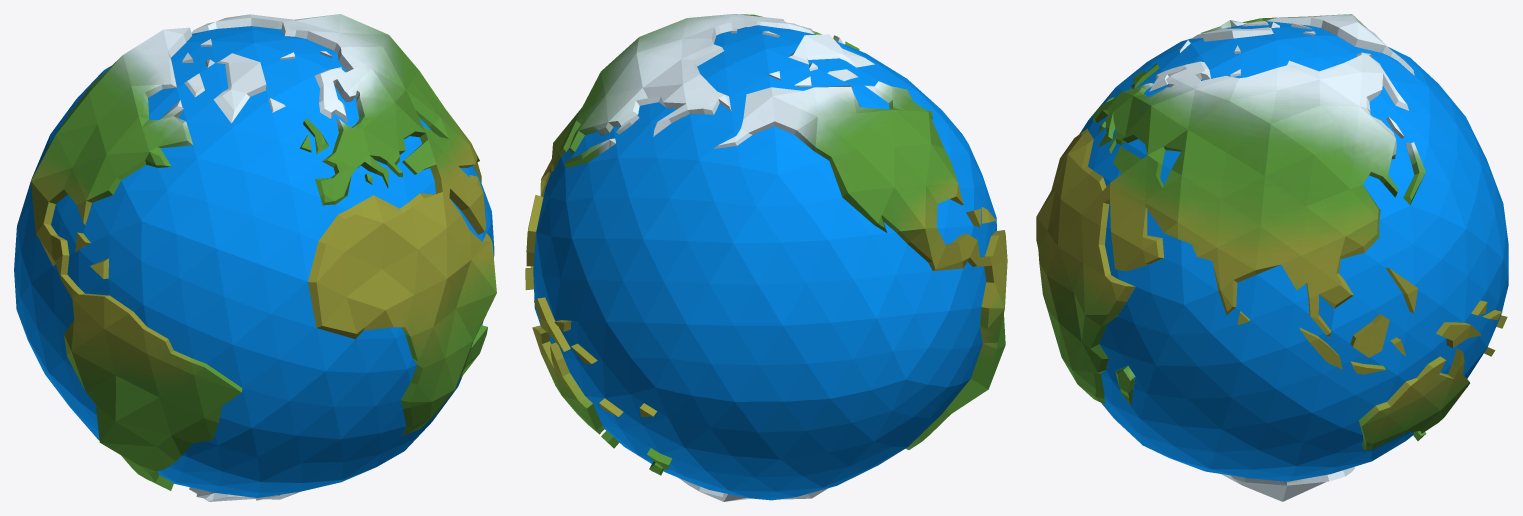
File: earth-transformed.glb
3 views of the same model, side by side, from view 1: azimuth 30°, elevation 25°; view 2: azimuth 150°, elevation 25°; view 3: azimuth 270°, elevation 25° (orthographic). The views are drawn at different scales.
Parts seen in each view (by area): view 1: earth4; view 2: earth4; view 3: earth4.
Boxes of the visible parts, x1,y1,x2,y2 form: earth4: [14, 14, 496, 501]; earth4: [525, 14, 1007, 501]; earth4: [1036, 14, 1508, 501].
Size of the model in its own units: 17.33 by 17.94 by 17.29.
2 materials, 2 textured.
